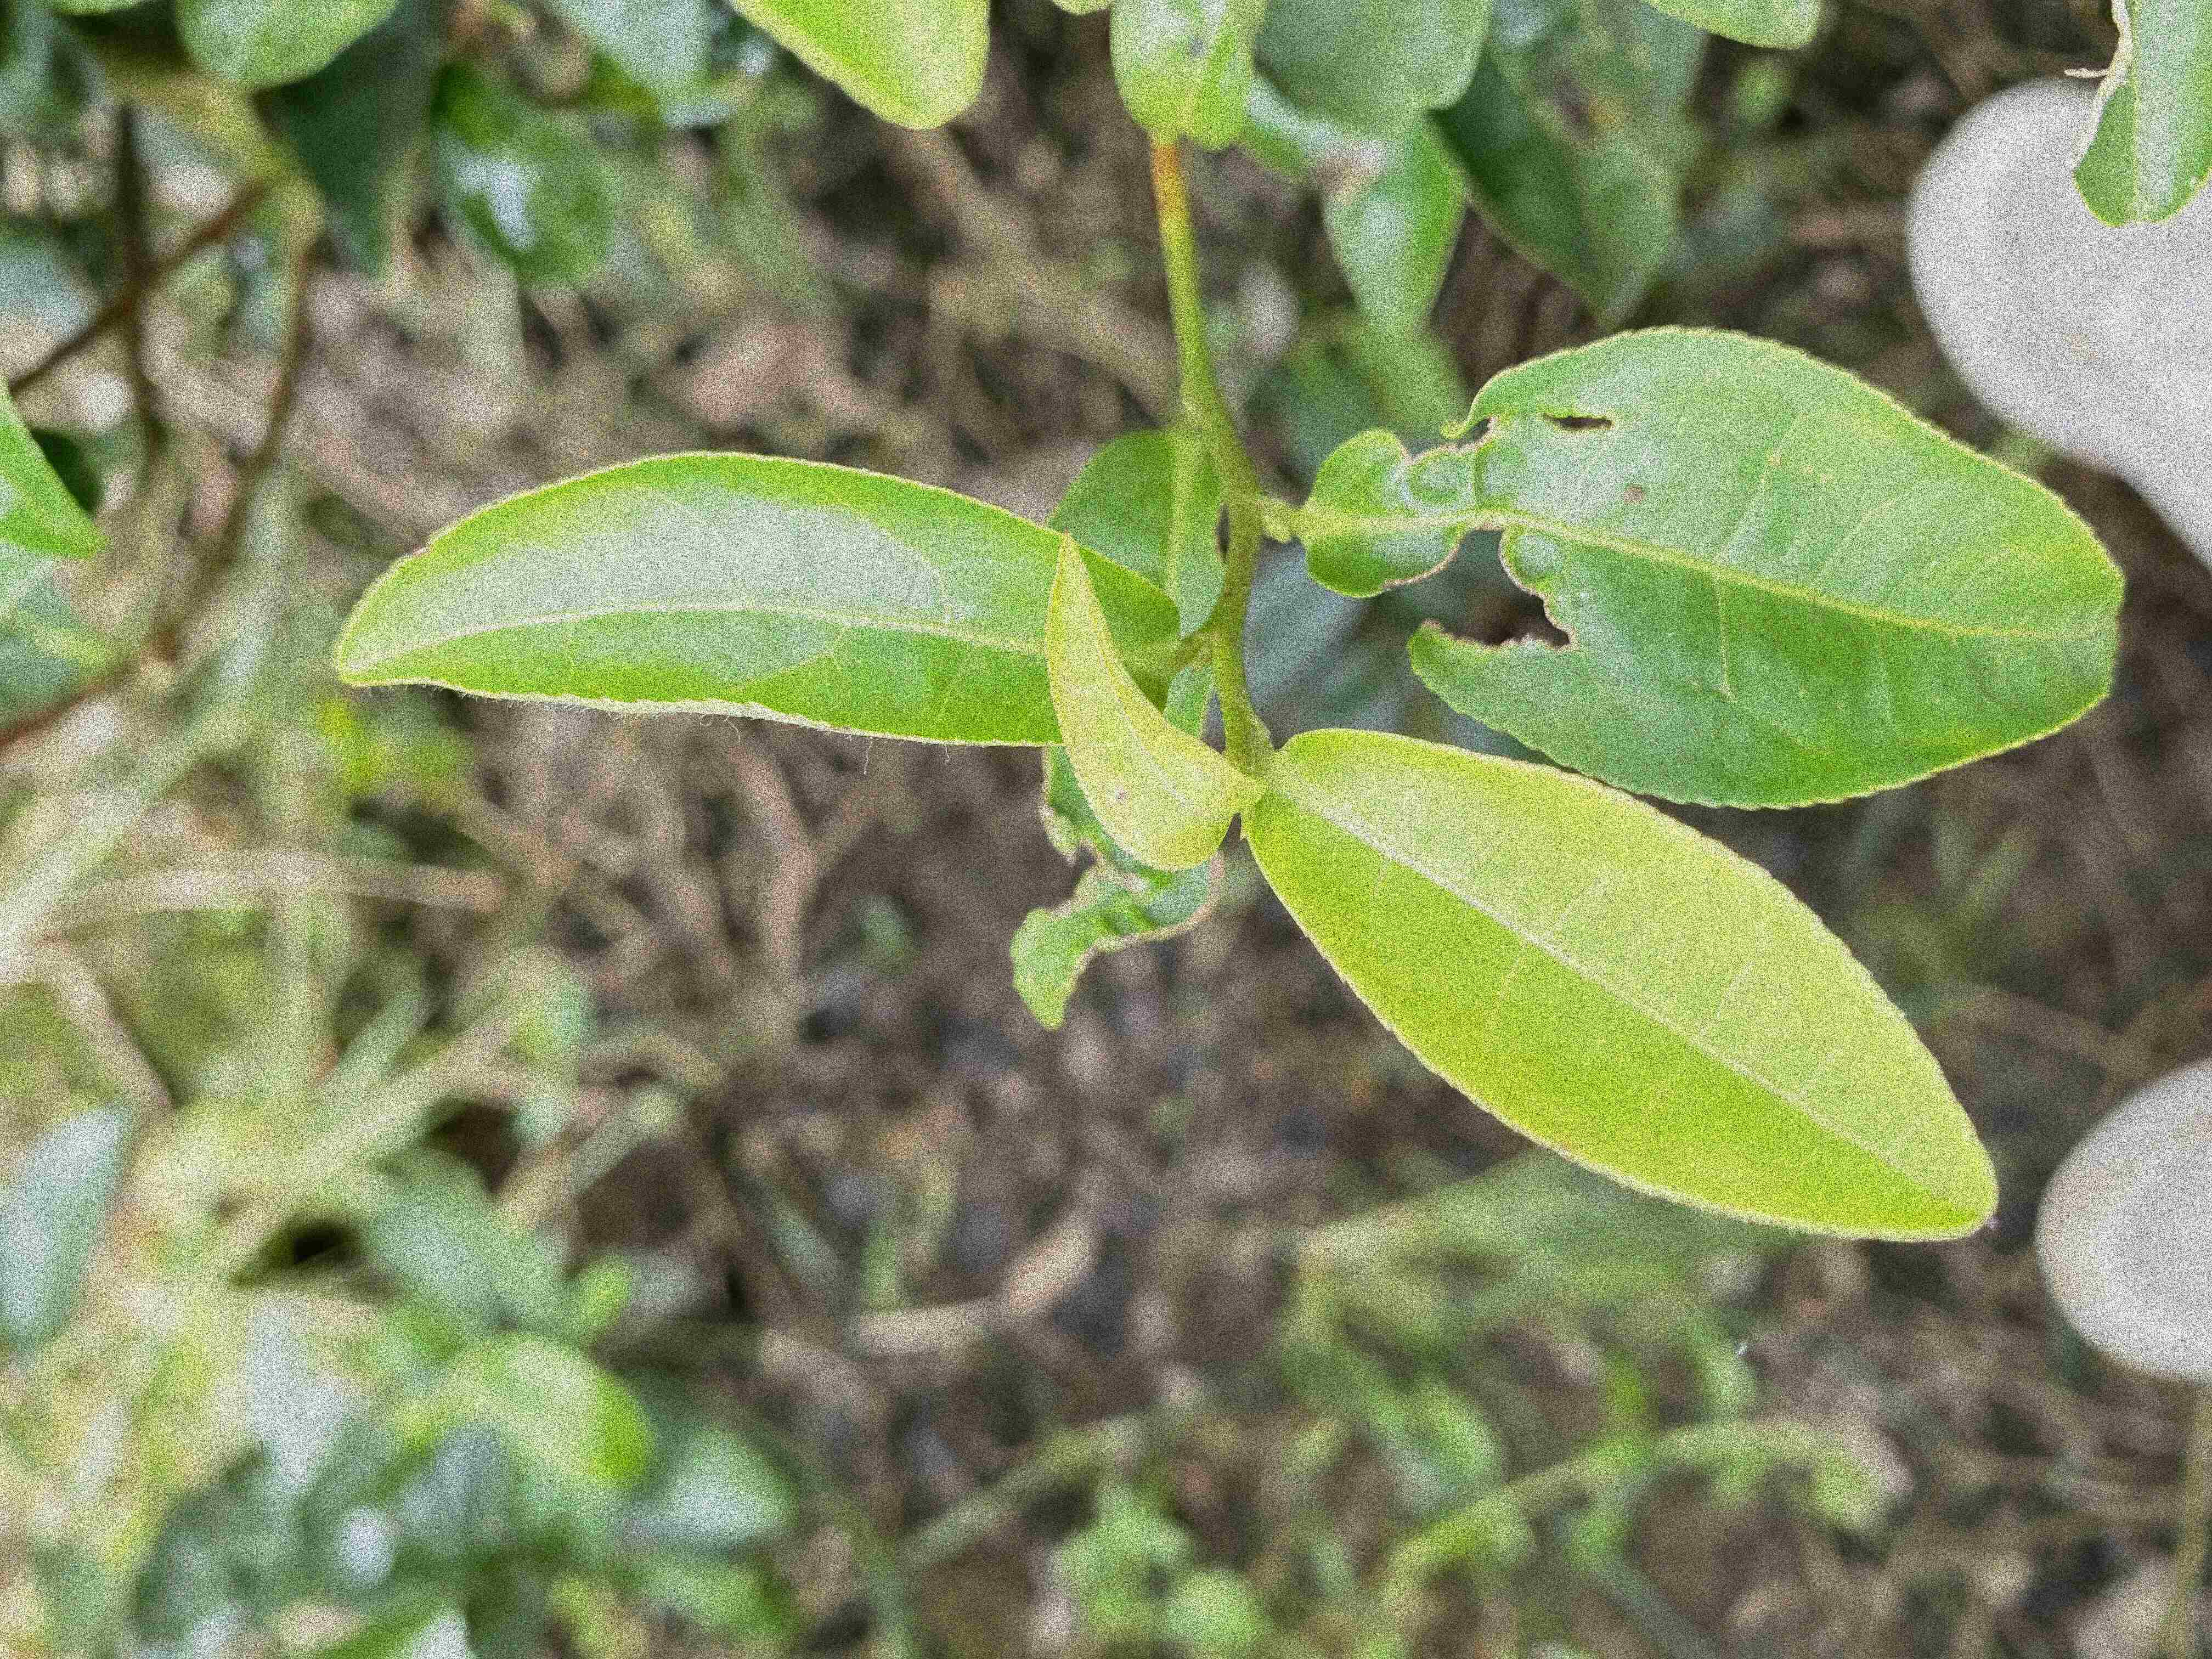chihuo_high: (1306, 324, 2127, 809), (1003, 742, 1226, 1030)
healthy: (1249, 725, 2000, 1241), (331, 450, 1176, 749)
